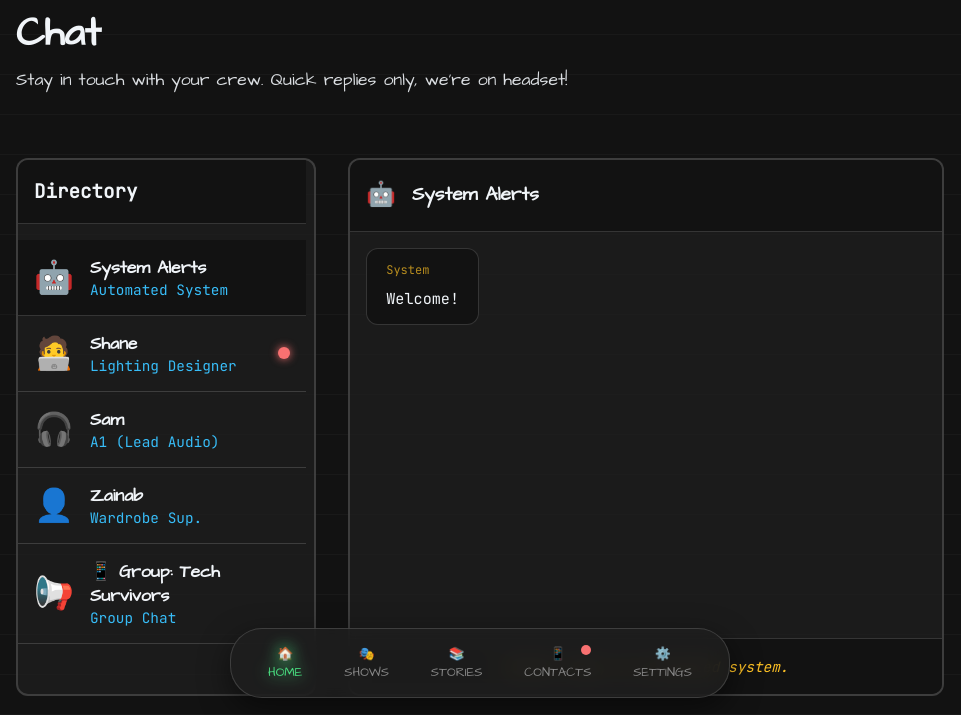
Test: NetworksPage Component › shows 'No message history' when no messages exist for selected contact
The width and height of the screenshot is (961, 715).
What coordinates should you click on to do the following:
click the button "🎧 Sam A1 (Lead Audio)"
I would click on:
 (162, 430)
Its box is top-left (18, 392), bottom-right (306, 468).
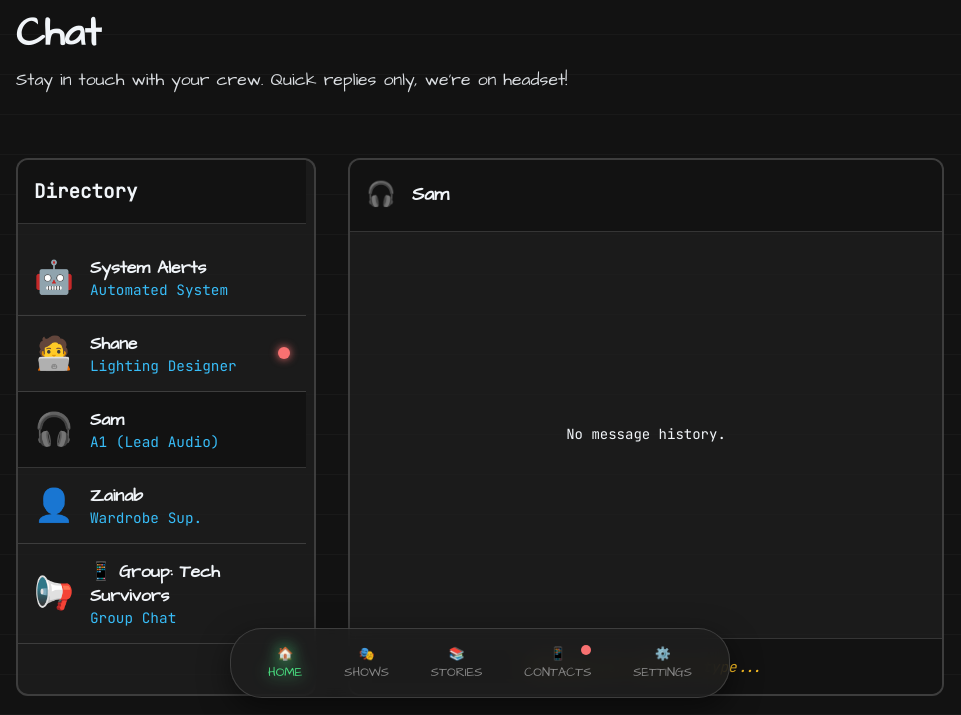
Expected: the text "No message history." is shown, top-left (566, 423), bottom-right (726, 446)
